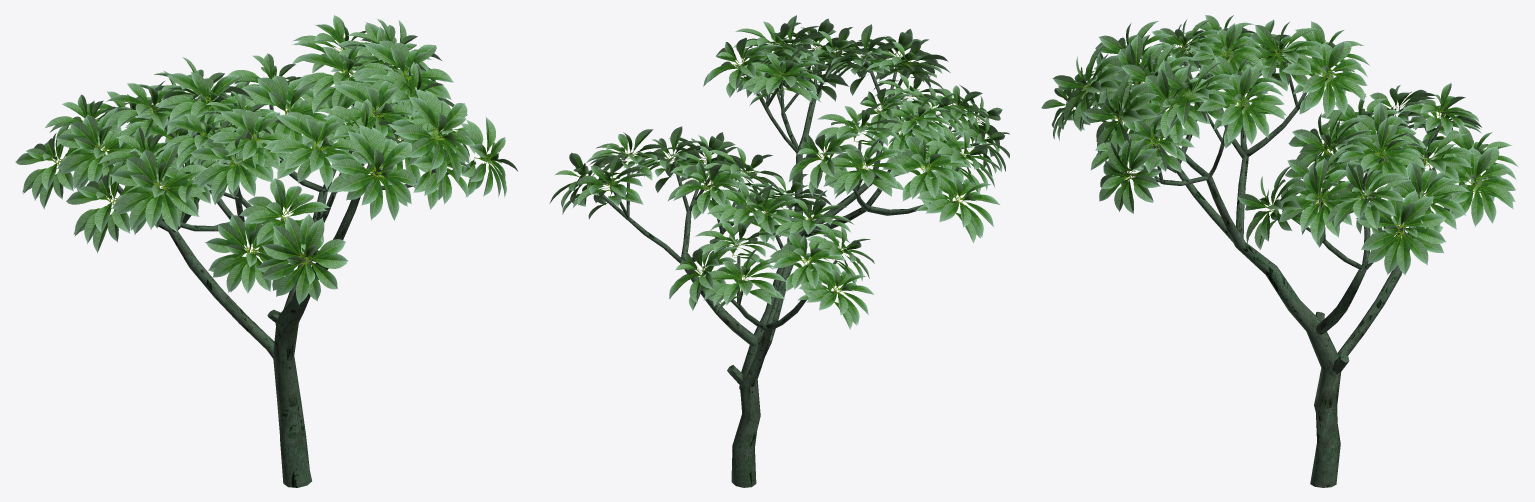
The model's file is JASMIM+MANGA.obj.
The picture shows the model from 3 angles, left to right: view 1: azimuth 30°, elevation 25°; view 2: azimuth 150°, elevation 25°; view 3: azimuth 270°, elevation 25°; orthographic projection. The views are drawn at different scales.
Parts seen in each view (by area): view 1: Mesh465 Line006_1_1 Kamboja_2_1 Model, Mesh1 Group1 Kamboja_2_1 Model; view 2: Mesh465 Line006_1_1 Kamboja_2_1 Model, Mesh1 Group1 Kamboja_2_1 Model, Mesh203 Group5 Group3 Kamboja_2_1 Model; view 3: Mesh465 Line006_1_1 Kamboja_2_1 Model, Mesh1 Group1 Kamboja_2_1 Model, Mesh203 Group5 Group3 Kamboja_2_1 Model, Mesh468 Line006_1_1 Kamboja_2_1 Model, Mesh472 Line006_1_1 Kamboja_2_1 Model, Mesh471 Line006_1_1 Kamboja_2_1 Model.
Boxes of the visible parts, box(x1,y1,x2,y2) form: Mesh465 Line006_1_1 Kamboja_2_1 Model: box(273, 168, 383, 487); Mesh1 Group1 Kamboja_2_1 Model: box(117, 185, 274, 358); Mesh465 Line006_1_1 Kamboja_2_1 Model: box(731, 98, 816, 487); Mesh1 Group1 Kamboja_2_1 Model: box(739, 300, 806, 389); Mesh203 Group5 Group3 Kamboja_2_1 Model: box(684, 269, 758, 346); Mesh465 Line006_1_1 Kamboja_2_1 Model: box(1169, 142, 1341, 487); Mesh1 Group1 Kamboja_2_1 Model: box(1334, 164, 1425, 380); Mesh203 Group5 Group3 Kamboja_2_1 Model: box(1316, 269, 1366, 334); Mesh468 Line006_1_1 Kamboja_2_1 Model: box(1176, 169, 1232, 241); Mesh472 Line006_1_1 Kamboja_2_1 Model: box(1236, 155, 1248, 237); Mesh471 Line006_1_1 Kamboja_2_1 Model: box(1240, 107, 1298, 156).
Bounding box in the file's own units: 211 × 231 × 230.
Materials: 3 (2 with a texture image).
